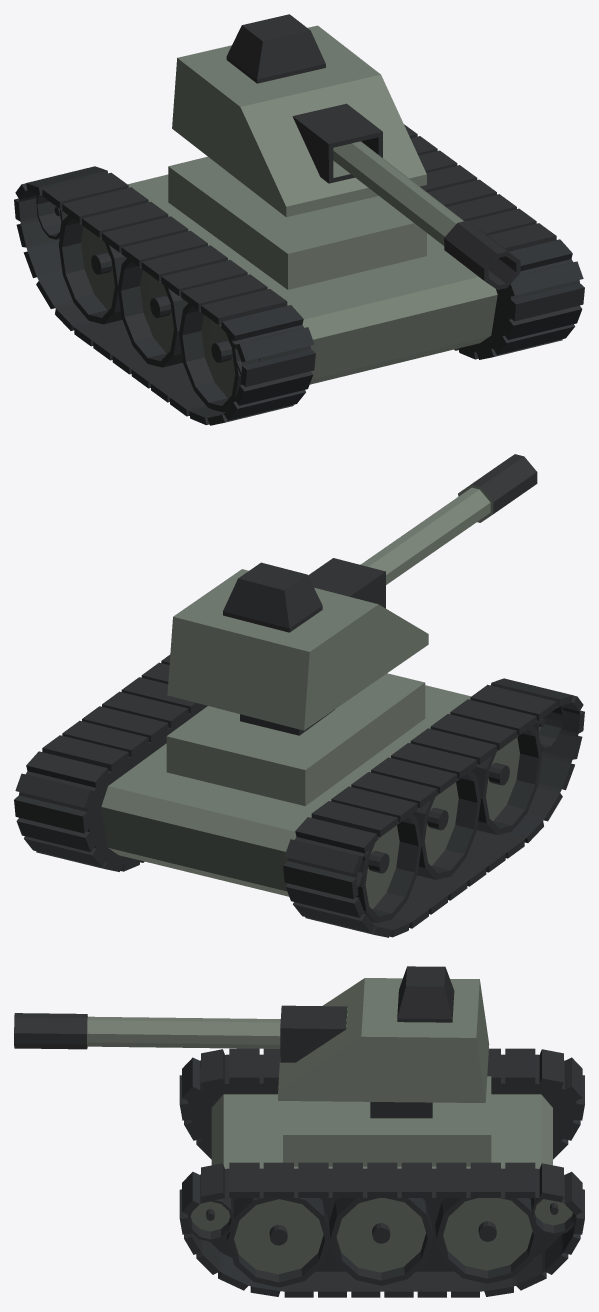
Rendered from tank.fbx.
3 renders of one model, top to bottom at view 1: azimuth 30°, elevation 25°; view 2: azimuth 150°, elevation 25°; view 3: azimuth 270°, elevation 25°, orthographic. The views are drawn at different scales.
Parts seen in each view (by area): view 1: tank; view 2: tank; view 3: tank.
Boxes of the visible parts, <box> form: tank: <box>14,14,584,425</box>; tank: <box>14,454,584,937</box>; tank: <box>14,966,584,1297</box>.
Bounding box in the file's own units: 916 × 1542 × 745.
